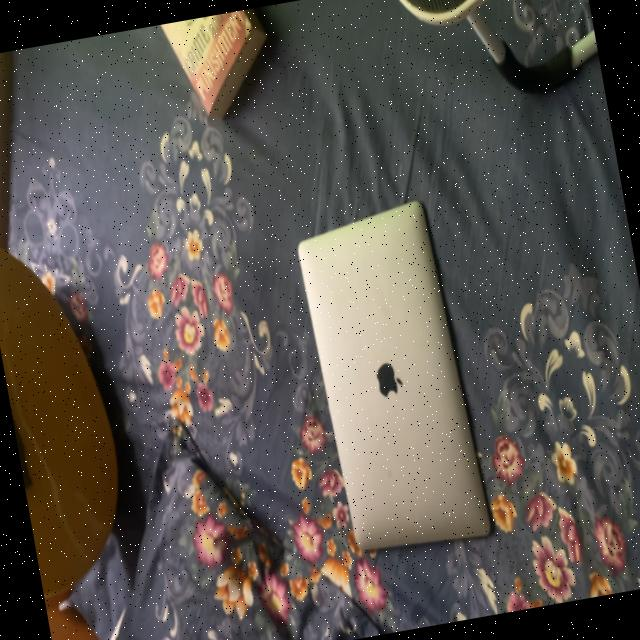book: (151, 5, 287, 142)
guitar: (0, 194, 131, 611)
laptop: (279, 154, 491, 570)
